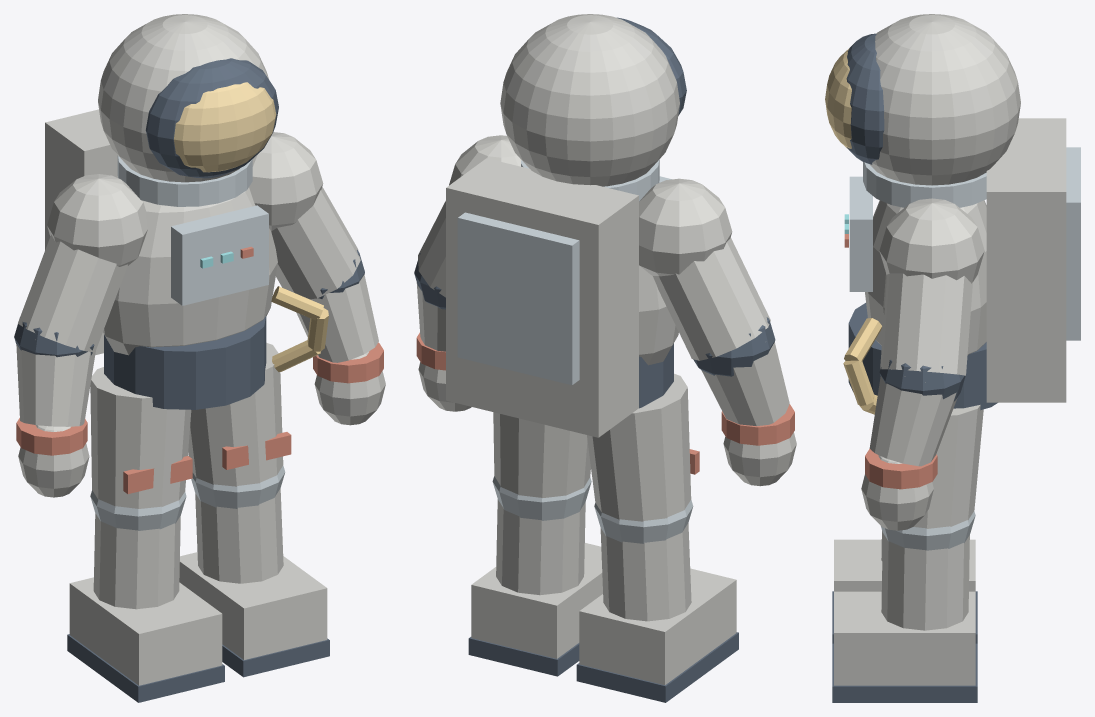
The model's file is 04_ExplorerAstronaut.glb.
The picture shows the model from 3 angles, left to right: view 1: azimuth 30°, elevation 25°; view 2: azimuth 150°, elevation 25°; view 3: azimuth 270°, elevation 25°; orthographic projection. The views are drawn at different scales.
Visible parts, largest first — view 1: Torso, Helmet, Left_boot, Left_thigh, Waist, Right_boot, Left_upper_arm, Chest_controls, Right_thigh, Gold_visor, Left_shoulder, Left_shin (+22 smaller); view 2: Life_support, Helmet, Back_panel, Left_thigh, Left_boot, Left_upper_arm, Right_boot, Left_shoulder, Left_shin, Right_shin, Right_thigh, Left_forearm (+16 smaller); view 3: Life_support, Helmet, Right_boot, Right_upper_arm, Right_shin, Right_shoulder, Right_forearm, Right_thigh, Visor_frame, Torso, Left_boot, Back_panel (+11 smaller).
Boxes of the visible parts, x1,y1,x2,y2 form: Torso: (103,187,277,355); Helmet: (98,14,269,182); Left_boot: (69,577,222,685); Left_thigh: (90,367,191,508); Waist: (104,316,266,409); Right_boot: (179,552,327,659); Left_upper_arm: (18,234,127,352); Chest_controls: (171,205,268,305); Right_thigh: (188,342,283,486); Gold_visor: (174,82,276,172); Left_shoulder: (47,174,147,266); Left_shin: (93,513,180,609); Life_support: (446,158,638,437); Helmet: (500,14,679,186); Back_panel: (457,212,579,385); Left_thigh: (587,373,691,521); Left_boot: (579,568,736,684); Left_upper_arm: (653,237,770,360); Right_boot: (471,543,602,658); Left_shoulder: (639,178,732,276); Left_shin: (600,523,691,621); Right_shin: (496,499,585,595); Right_thigh: (493,412,590,498); Left_forearm: (701,342,789,426); Life_support: (986,118,1066,402); Helmet: (869,14,1020,185); Right_boot: (834,591,975,685); Right_upper_arm: (880,273,972,375); Right_shin: (881,533,969,630); Right_shoulder: (879,198,984,283); Right_forearm: (869,376,957,466); Right_thigh: (913,405,983,528); Visor_frame: (846,33,884,164); Torso: (865,200,986,354); Left_boot: (834,539,975,591); Back_panel: (1066,147,1080,340).
Bounding box in the file's own units: 1.16 × 1.92 × 0.705.
